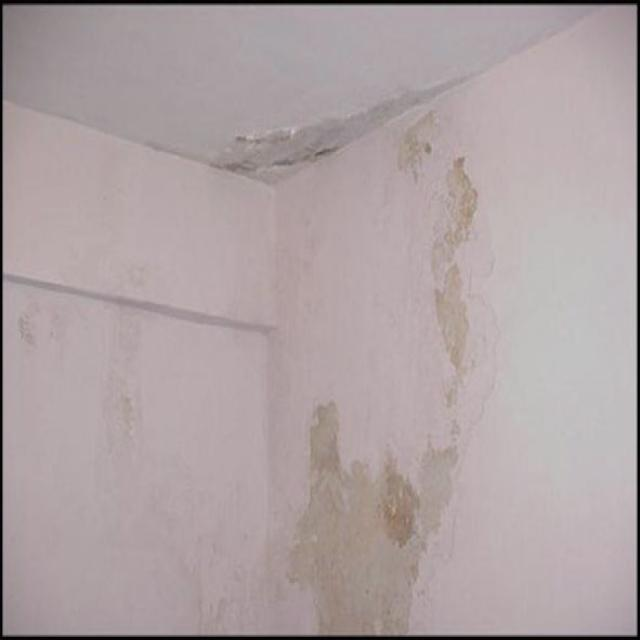Water_Leakage: (30, 53, 547, 640)
